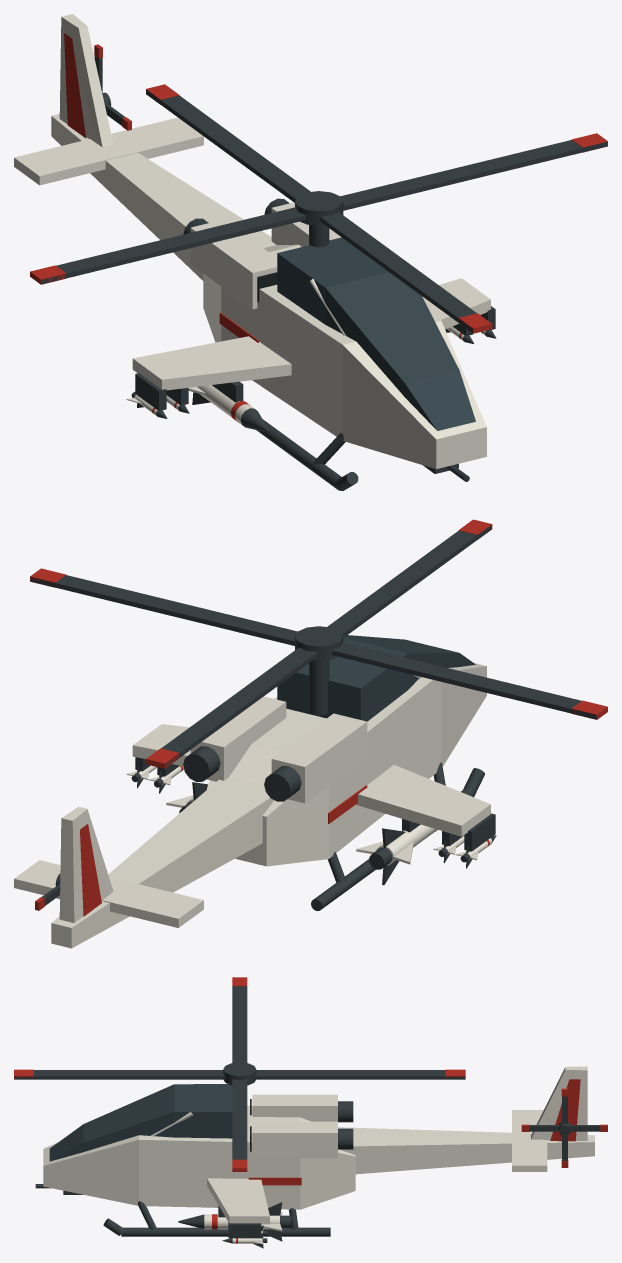
The picture shows the model from 3 angles, top to bottom: view 1: azimuth 30°, elevation 25°; view 2: azimuth 150°, elevation 25°; view 3: azimuth 270°, elevation 25°; orthographic projection. The views are drawn at different scales.
Parts seen in each view (by area): view 1: helicopter-fleet-armor, helicopter-fleet-glass, helicopter-fleet-machine, blade-arm-2-painted, blade-arm-0-painted, blade-arm-3-painted, blade-arm-1-painted, helicopter-fleet-red, store-left-large-painted, rotor-main-fleet-machine; view 2: helicopter-fleet-armor, helicopter-fleet-glass, helicopter-fleet-machine, blade-arm-2-painted, blade-arm-0-painted, blade-arm-1-painted, blade-arm-3-painted, store-left-large-painted, helicopter-fleet-red, rotor-main-fleet-machine; view 3: helicopter-fleet-armor, helicopter-fleet-glass, helicopter-fleet-machine, blade-arm-1-painted, blade-arm-3-painted, blade-arm-0-painted, blade-arm-2-painted, store-right-large-painted, helicopter-fleet-red, rotor-main-fleet-machine.
Part boxes in pixels (x1,y1,x2,y2): helicopter-fleet-armor: (14,14,490,469); helicopter-fleet-glass: (277,237,475,430); helicopter-fleet-machine: (135,198,495,490); blade-arm-2-painted: (30,207,306,284); blade-arm-0-painted: (340,133,607,210); blade-arm-3-painted: (320,212,492,333); blade-arm-1-painted: (146,84,310,202); helicopter-fleet-red: (64,33,258,342); store-left-large-painted: (188,385,269,432); rotor-main-fleet-machine: (295,191,343,225); helicopter-fleet-armor: (14,663,490,948); helicopter-fleet-glass: (277,635,475,721); helicopter-fleet-machine: (135,660,495,910); blade-arm-2-painted: (332,642,607,719); blade-arm-0-painted: (30,568,297,645); blade-arm-1-painted: (146,647,317,768); blade-arm-3-painted: (327,519,492,637); store-left-large-painted: (356,824,437,885); helicopter-fleet-red: (80,785,367,916); rotor-main-fleet-machine: (295,626,343,660); helicopter-fleet-armor: (43,1066,594,1224); helicopter-fleet-glass: (49,1084,232,1161); helicopter-fleet-machine: (103,1101,353,1238); blade-arm-1-painted: (254,1069,465,1079); blade-arm-3-painted: (14,1069,225,1079); blade-arm-0-painted: (232,1079,247,1171); blade-arm-2-painted: (232,977,247,1062); store-right-large-painted: (178,1202,291,1241); helicopter-fleet-red: (248,1079,580,1185); rotor-main-fleet-machine: (223,1062,256,1085).
Bounding box in the file's own units: 50.42 × 18.06 × 66.32.
